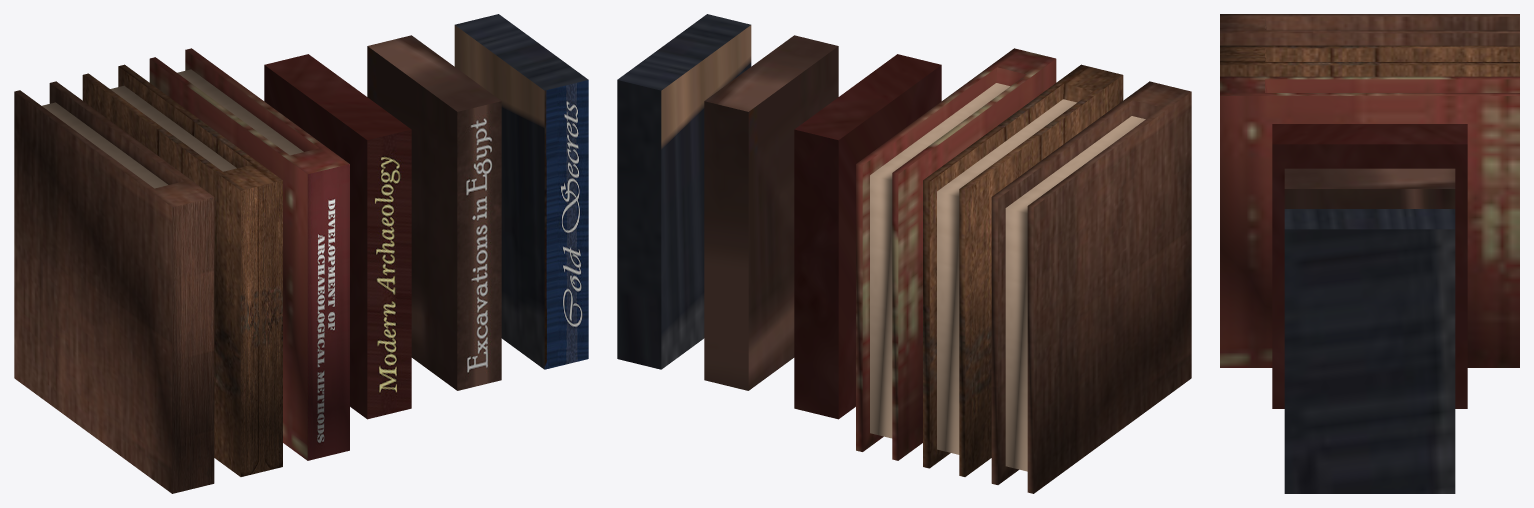
File: books.fbx
The picture shows the model from 3 angles, left to right: view 1: azimuth 30°, elevation 25°; view 2: azimuth 150°, elevation 25°; view 3: azimuth 270°, elevation 25°; orthographic projection. The views are drawn at different scales.
Parts seen in each view (by area): view 1: Book1.001, Book4, Book4.001, Book1, Book2, Book3; view 2: Book1.001, Book4, Book4.001, Book1, Book2, Book3; view 3: Book4.001, Book2, Book3, Book1, Book1.001, Book4.
Boxes of the visible parts, left/top/right/bottom form: Book1.001: left=14, top=81, right=214, bottom=493; Book4: left=367, top=35, right=501, bottom=390; Book4.001: left=454, top=14, right=588, bottom=369; Book1: left=82, top=64, right=282, bottom=476; Book2: left=149, top=48, right=349, bottom=460; Book3: left=264, top=54, right=411, bottom=419; Book1.001: left=991, top=81, right=1191, bottom=493; Book4: left=704, top=35, right=838, bottom=390; Book4.001: left=617, top=14, right=751, bottom=369; Book1: left=923, top=64, right=1123, bottom=476; Book2: left=856, top=48, right=1056, bottom=460; Book3: left=794, top=54, right=941, bottom=419; Book4.001: left=1284, top=209, right=1455, bottom=493; Book2: left=1220, top=76, right=1519, bottom=367; Book3: left=1272, top=124, right=1467, bottom=408; Book1: left=1220, top=45, right=1519, bottom=76; Book1.001: left=1220, top=14, right=1519, bottom=45; Book4: left=1284, top=168, right=1455, bottom=208.
Bounding box in the file's own units: 329 × 200 × 200.
Materials: 1 (1 with a texture image).
